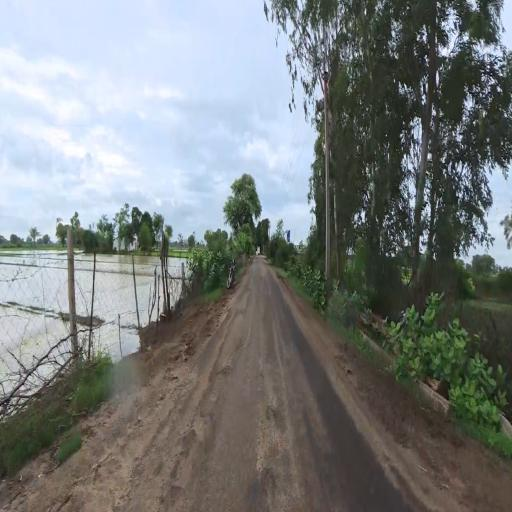ravelling: (155, 392, 286, 505)
